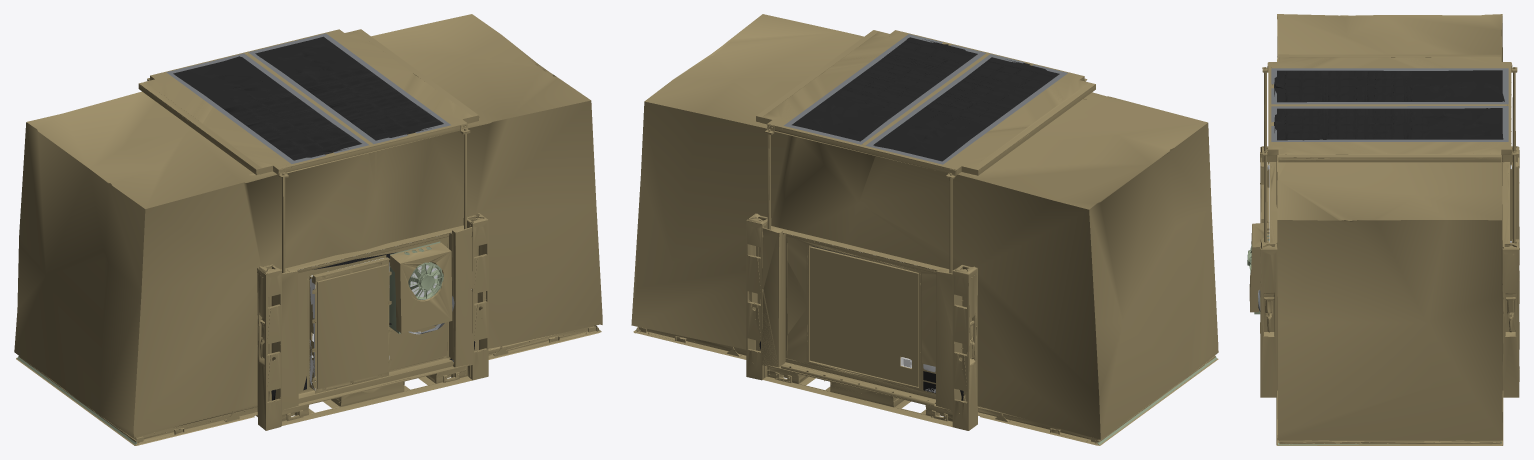
Rendered from trecc-deployed-tan.glb.
3 renders of one model, left to right at view 1: azimuth 30°, elevation 25°; view 2: azimuth 150°, elevation 25°; view 3: azimuth 270°, elevation 25°, orthographic. The views are drawn at different scales.
Parts seen in each view (by area): view 1: Solid4340; view 2: Solid4340; view 3: Solid4340.
Part boxes in pixels (x1,y1,x2,y2): Solid4340: [14, 14, 602, 445]; Solid4340: [631, 14, 1218, 445]; Solid4340: [1247, 14, 1519, 445].
Size of the model in its own units: 4.51 by 2.35 by 2.39.
